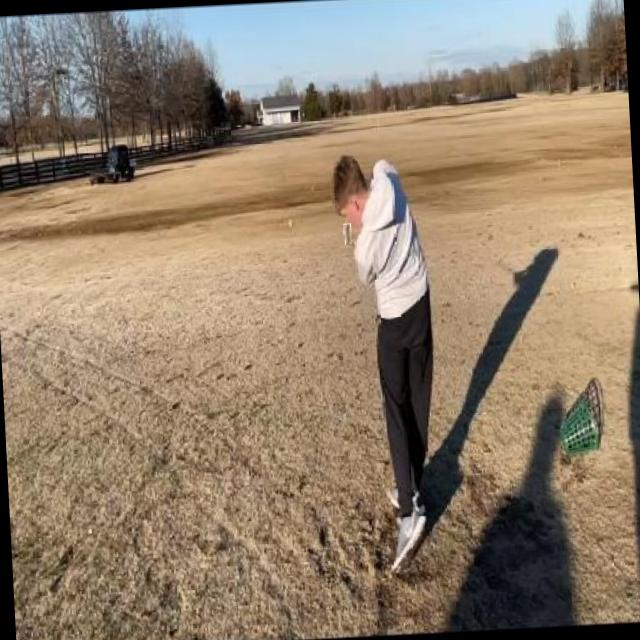club head: (344, 223, 352, 244)
